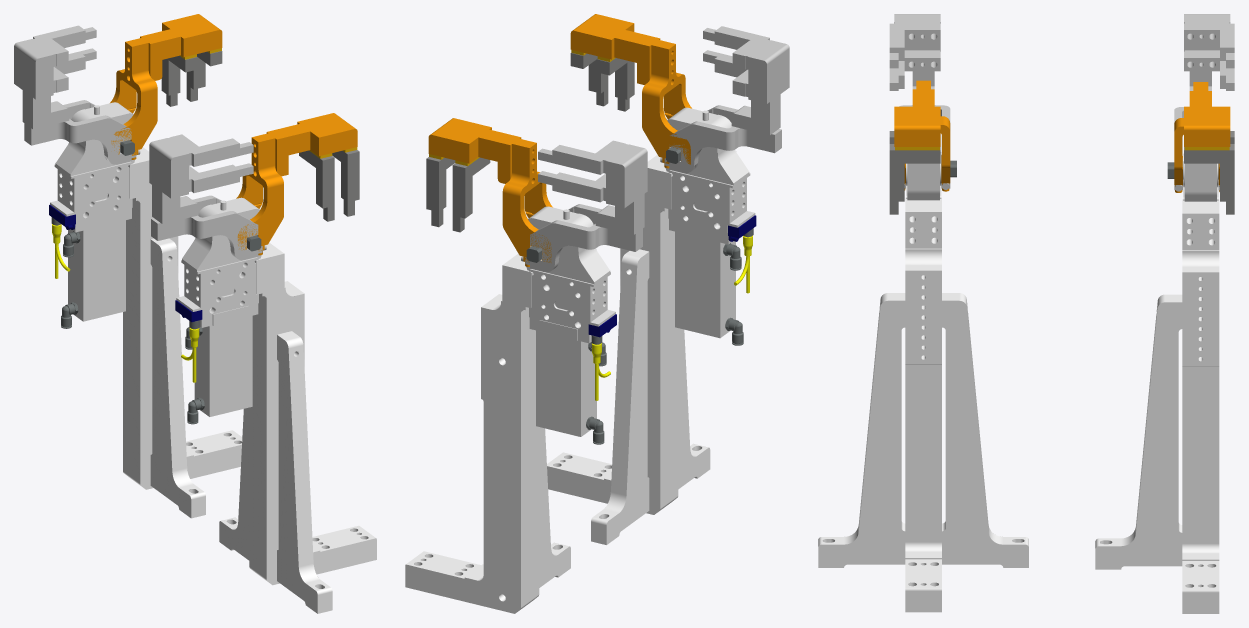
3 views of the same model, side by side, from view 1: azimuth 30°, elevation 25°; view 2: azimuth 150°, elevation 25°; view 3: azimuth 270°, elevation 25° (orthographic). The views are drawn at different scales.
Visible parts, largest first — view 1: Ext_01_solid (×2), Body (×2), PartBody (×3), destaco_8UM504_25_144_sat_solid (×4), Ext_01 (×4), ANL404_02 (×4), ANL404_01 (×4); view 2: Ext_01_solid (×2), Body (×2), PartBody (×3), destaco_8UM504_25_144_sat_solid (×4), Ext_01 (×4), ANL404_02 (×4), ANL404_01 (×4); view 3: PartBody (×3), Ext_01_solid (×2), Ext_01 (×4), ANL404_02 (×4), Body (×2), ANL404_01 (×2), destaco_8UM504_25_144_sat_solid (×2).
Part boxes in pixels (box(x1,y1,x2,y2)): Ext_01_solid (×2): box(123, 147, 376, 585); Body (×2): box(49, 102, 261, 416); PartBody (×3): box(150, 238, 332, 613); destaco_8UM504_25_144_sat_solid (×4): box(24, 38, 283, 260); Ext_01 (×4): box(14, 14, 357, 223); ANL404_02 (×4): box(33, 25, 359, 216); ANL404_01 (×4): box(53, 48, 334, 221); Ext_01_solid (×2): box(405, 155, 678, 613); Body (×2): box(526, 107, 756, 436); PartBody (×3): box(539, 249, 710, 587); destaco_8UM504_25_144_sat_solid (×4): box(502, 40, 781, 271); Ext_01 (×4): box(428, 14, 789, 234); ANL404_02 (×4): box(426, 26, 769, 227); ANL404_01 (×4): box(452, 50, 748, 232); PartBody (×3): box(818, 293, 1182, 569); Ext_01_solid (×2): box(905, 197, 1219, 613); Ext_01 (×4): box(894, 14, 1230, 146); ANL404_02 (×4): box(889, 23, 1234, 214); Body (×2): box(906, 152, 1218, 201); ANL404_01 (×2): box(889, 51, 1234, 90); destaco_8UM504_25_144_sat_solid (×2): box(904, 80, 1219, 192).
Size of the model in its own units: 0.364 by 0.7325 by 0.565.
